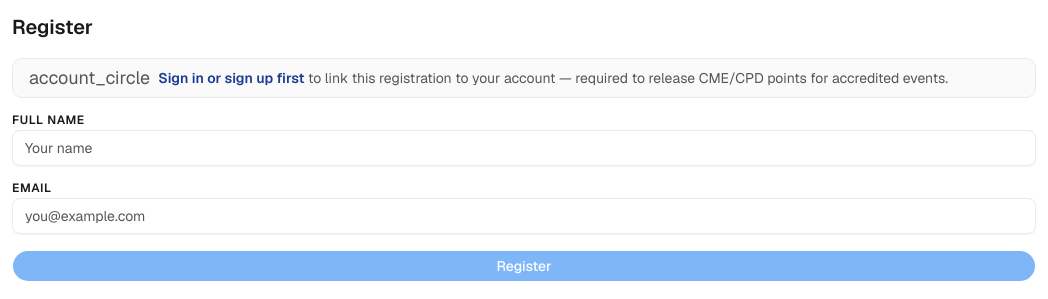
Test: RegisterCard — account prompt on the success card (FR-003) › signed out: offers "Create your Eventar record" -> sign-up with the claim page as next, only after the registration succeeds
Expected: the link "create your eventar record" is not shown
Type "alice@work.com" into the field labelled "Email" at (524, 216), box [12,198,1036,234]
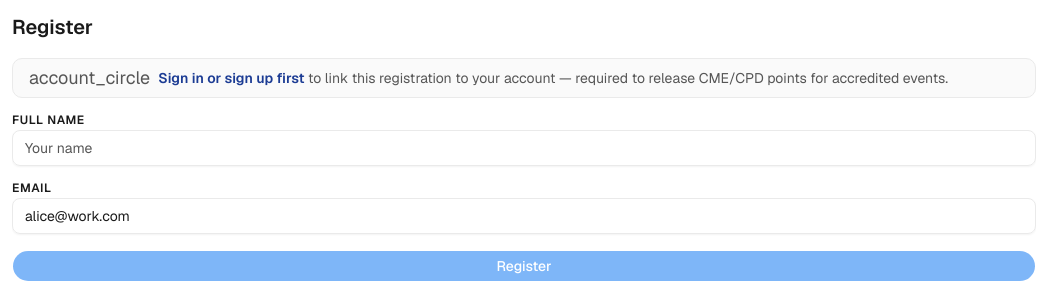
Type "Alice Wong" into the field labelled "Full name" at (524, 148), box [12,130,1036,166]
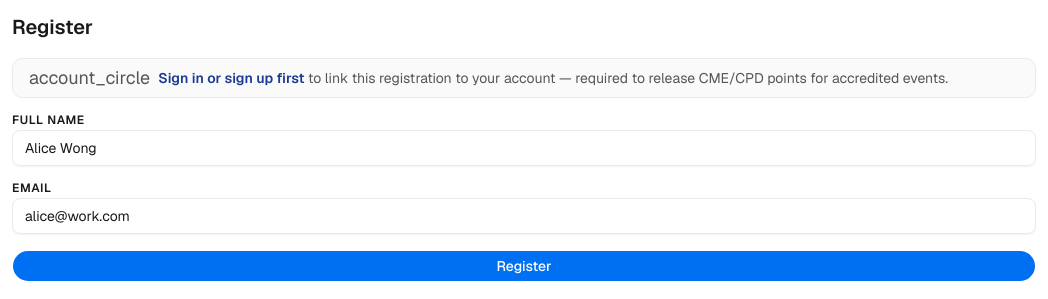
Click the button "Register" at (524, 266), box [12,250,1036,282]
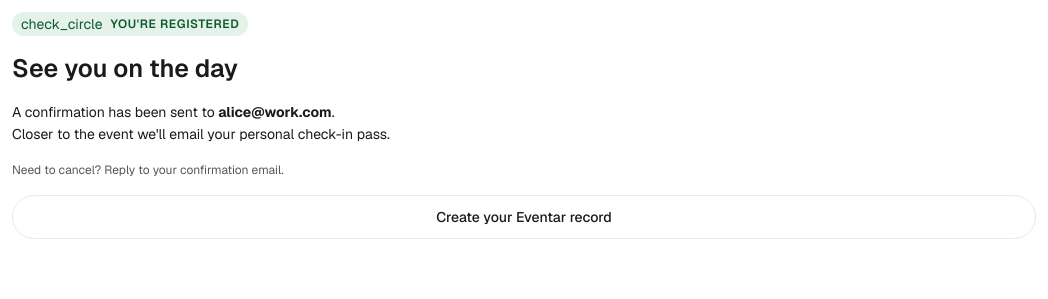
Expected: the heading "See you on the day" is shown, [12,52,238,84]
